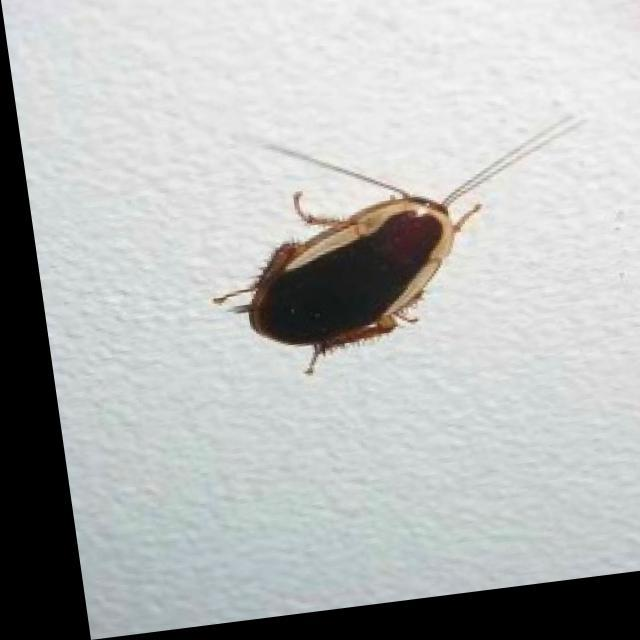cockroach: (245, 192, 457, 350)
